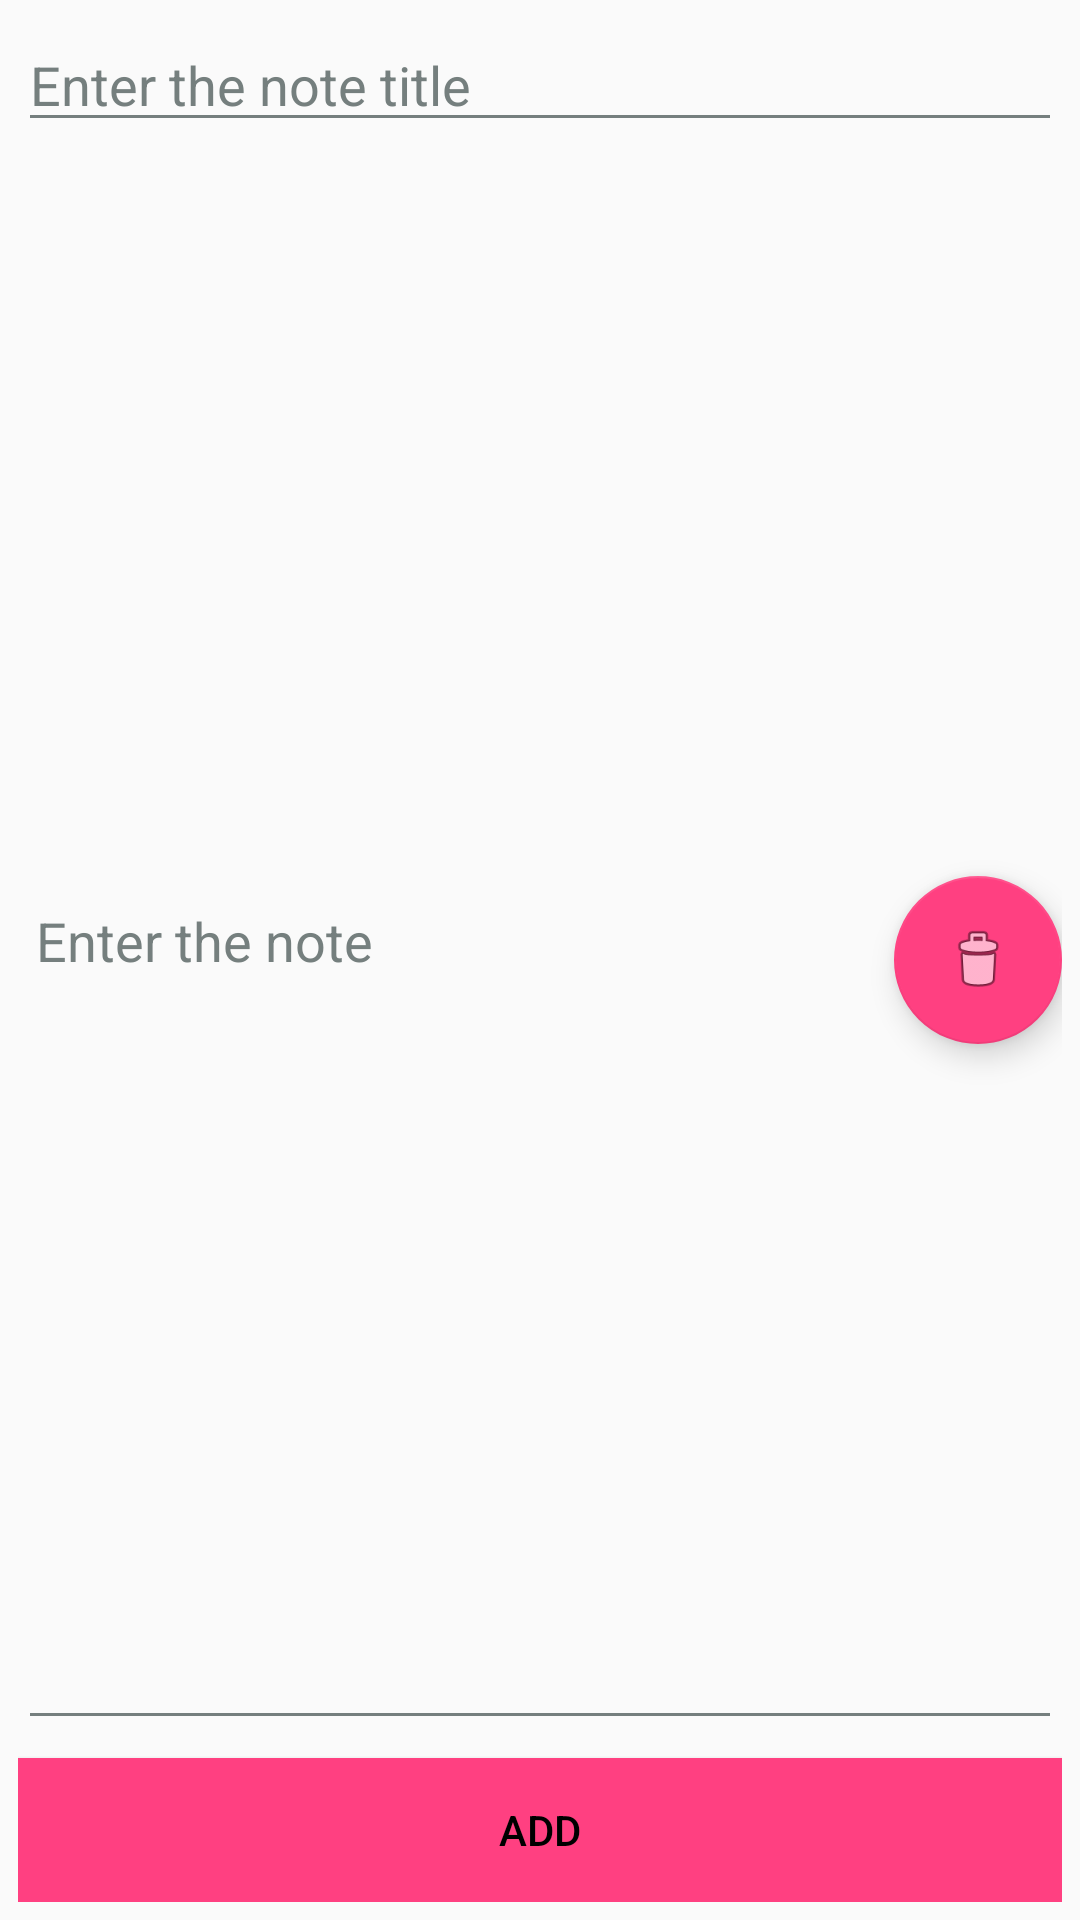

Where to tap for icons on this 1080×1920 app screen, as [x,y]:
delete: [978,960]
